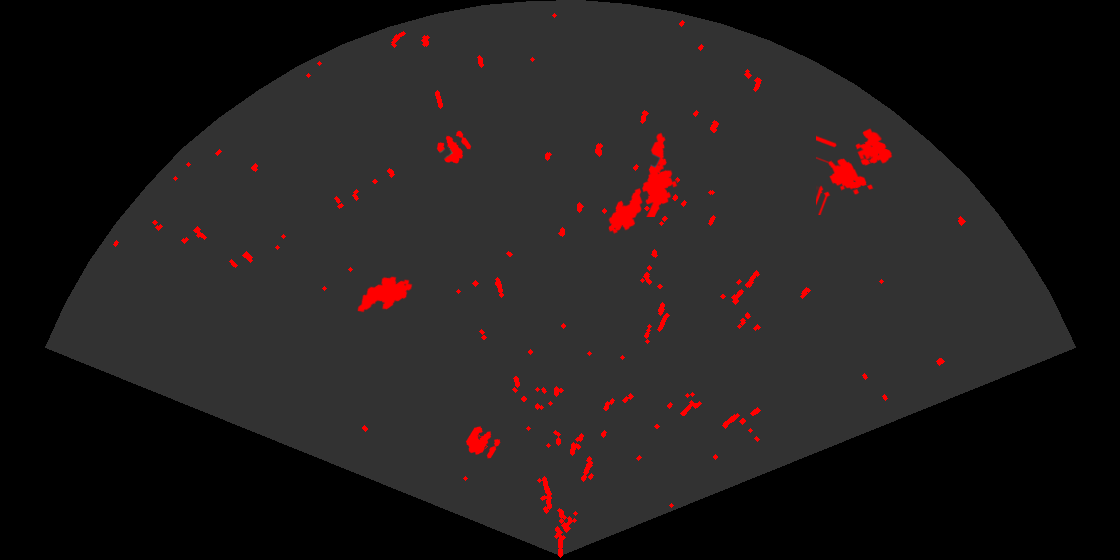AUV: (356, 275, 414, 314), (607, 186, 644, 236)
ball: (435, 129, 473, 165), (464, 425, 502, 460)
cage: (816, 127, 894, 215)
frogman: (640, 131, 679, 217)
